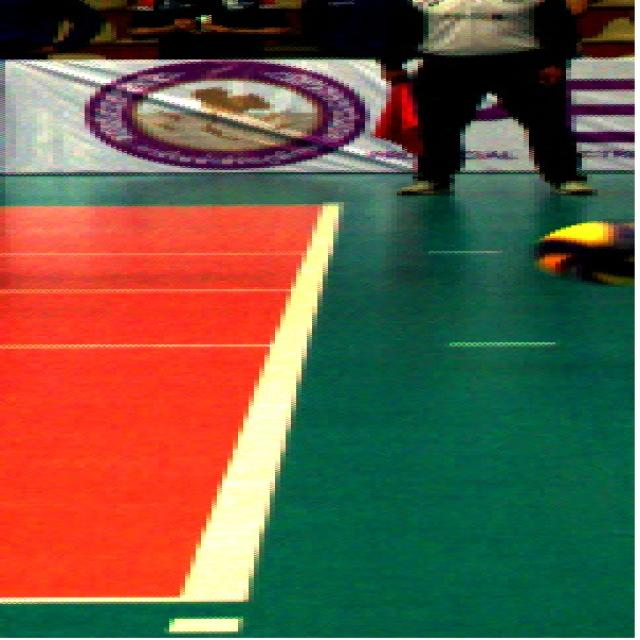Volleyball: (536, 219, 635, 284)
